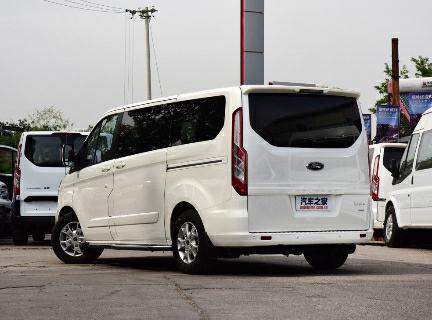福特-途睿欧: (49, 80, 375, 280)
